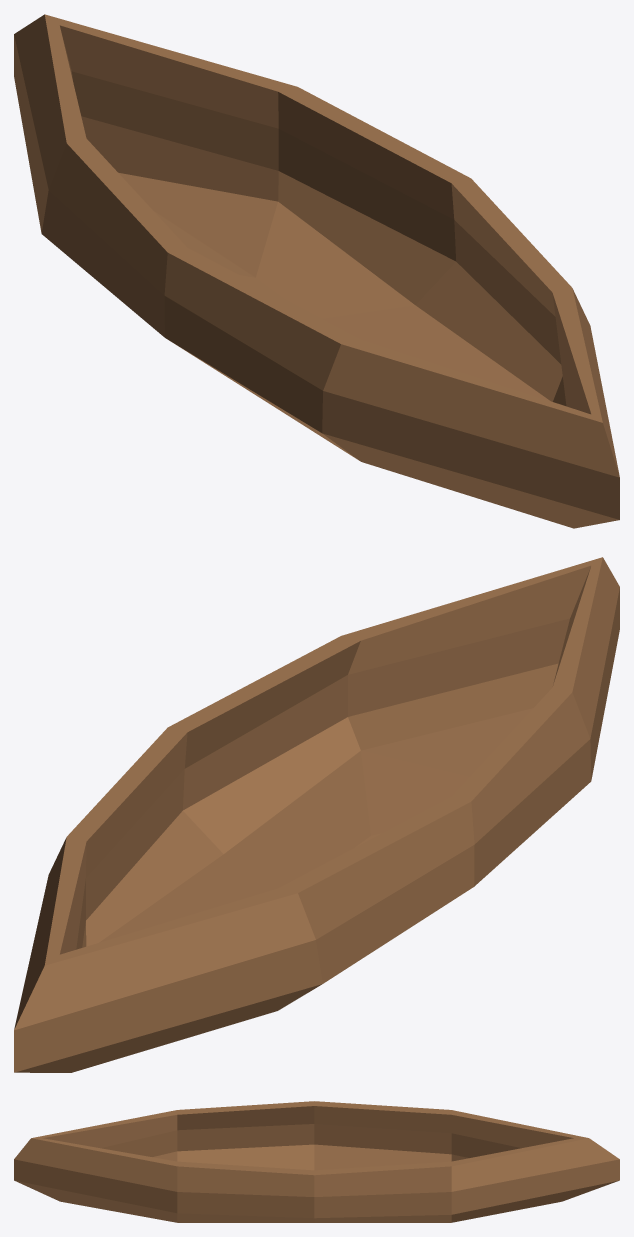
Rendered from Boat_3.fbx.
3 renders of one model, top to bottom at view 1: azimuth 30°, elevation 25°; view 2: azimuth 150°, elevation 25°; view 3: azimuth 270°, elevation 25°, orthographic. The views are drawn at different scales.
Parts seen in each view (by area): view 1: Boat3_mesh; view 2: Boat3_mesh; view 3: Boat3_mesh.
Boxes of the visible parts, bbox=[...] form: Boat3_mesh: bbox=[14, 14, 619, 528]; Boat3_mesh: bbox=[14, 557, 619, 1072]; Boat3_mesh: bbox=[14, 1101, 619, 1222].
Size of the model in its own units: 148 by 63.25 by 502.
